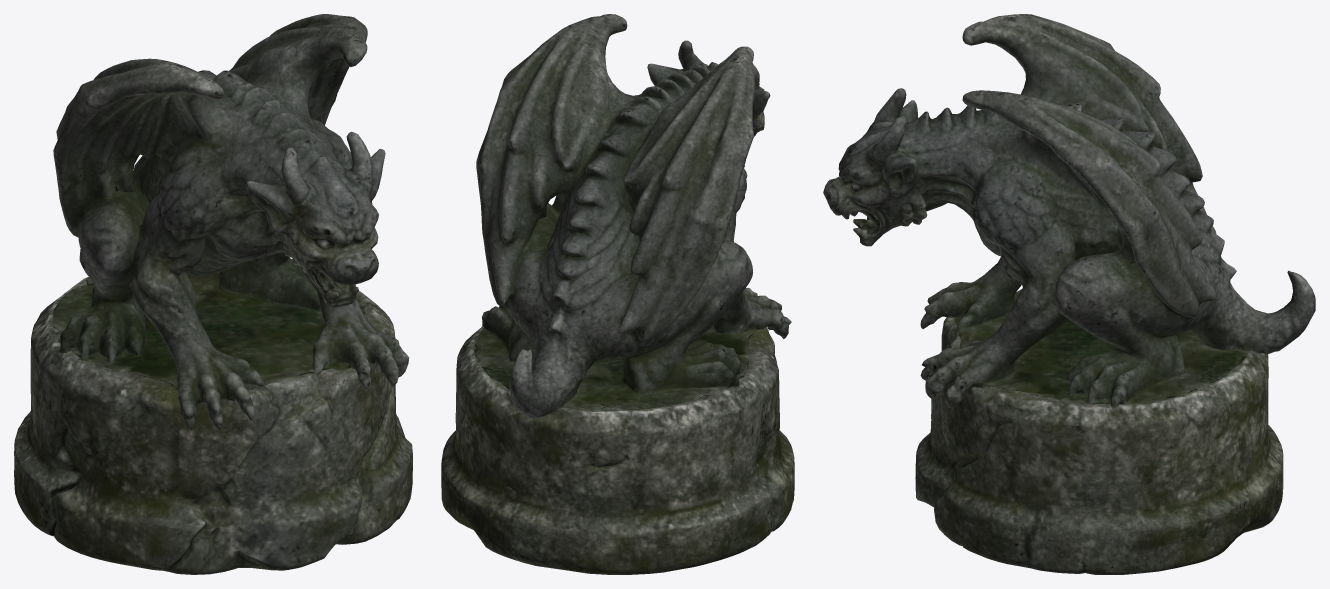
The model's file is gargoyle.glb.
3 renders of one model, left to right at view 1: azimuth 30°, elevation 25°; view 2: azimuth 150°, elevation 25°; view 3: azimuth 270°, elevation 25°, orthographic. The views are drawn at different scales.
Visible parts, largest first — view 1: world; view 2: world; view 3: world.
Boxes of the visible parts, x1,y1,x2,y2 form: world: (14,14,412,574); world: (441,14,794,574); world: (823,14,1315,574).
Bounding box in the file's own units: 0.7363 × 0.9995 × 0.9987.
1 material, 1 textured.
